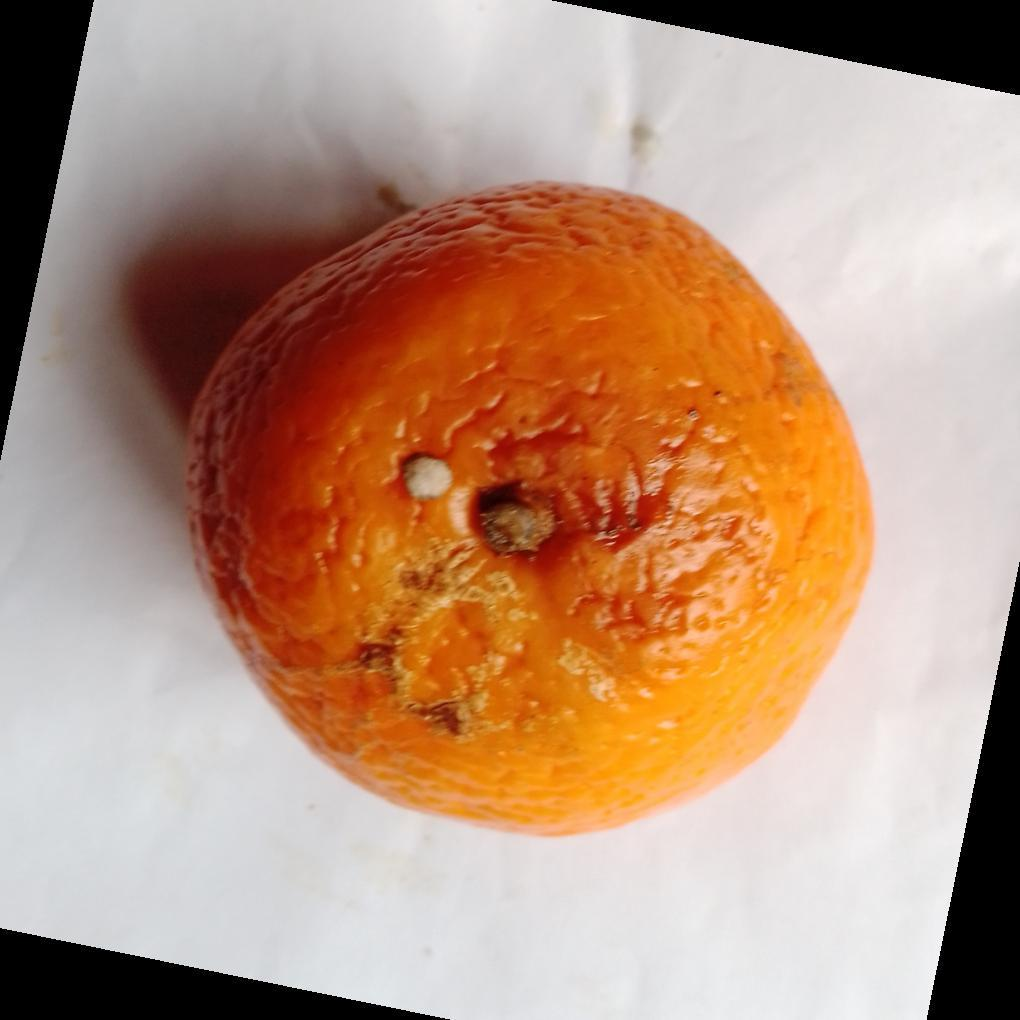FreshOrange: (184, 183, 878, 842)
